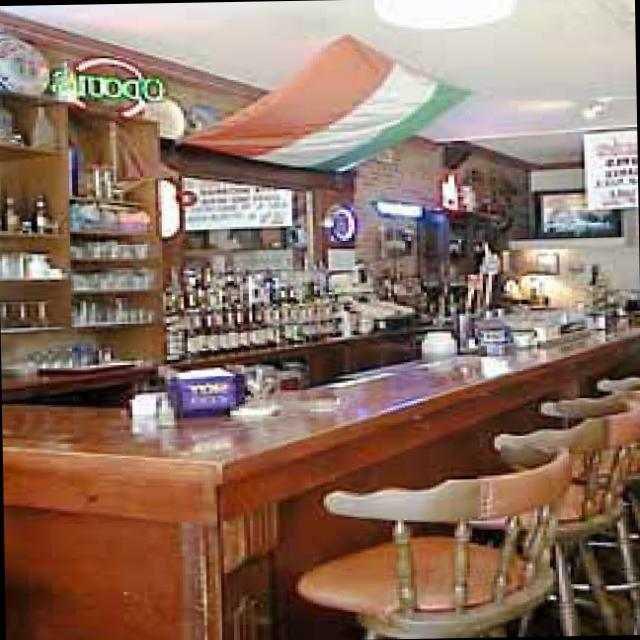bar stool: (7, 302, 640, 640)
bottles occluded: (171, 264, 350, 353)
ceiling beam: (0, 0, 637, 163)
flag: (178, 30, 479, 170)
floor -X: (450, 534, 640, 633)
glasses -X: (80, 293, 163, 322), (79, 264, 159, 285), (30, 343, 98, 364)
lamp crop: (377, 0, 519, 26)
screen occluded: (540, 187, 624, 233)
shelves crop: (2, 88, 451, 406)
stool: (494, 390, 640, 631)
stool occluded: (304, 440, 580, 635)
wall clock: (0, 6, 531, 395), (525, 157, 640, 323)
